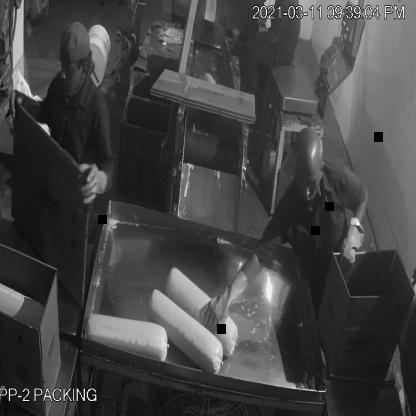glove: (201, 259, 250, 333), (336, 211, 368, 284)
